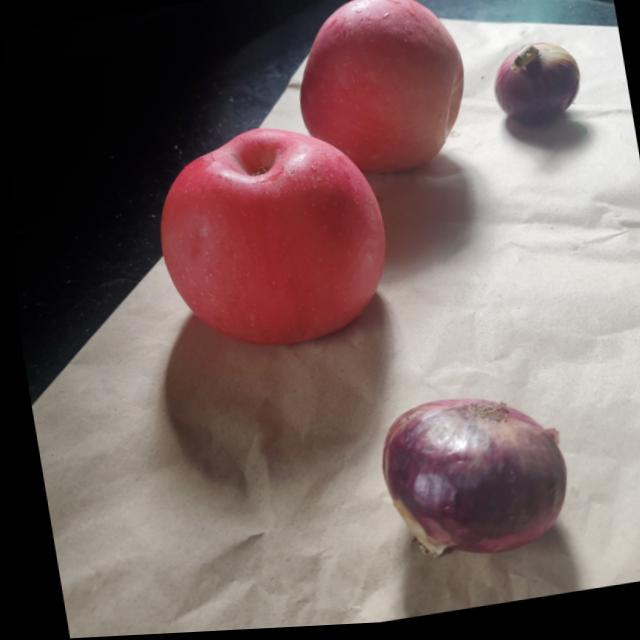apple: (140, 110, 394, 359), (285, 0, 480, 187)
onion: (369, 389, 572, 570), (488, 43, 586, 138)
